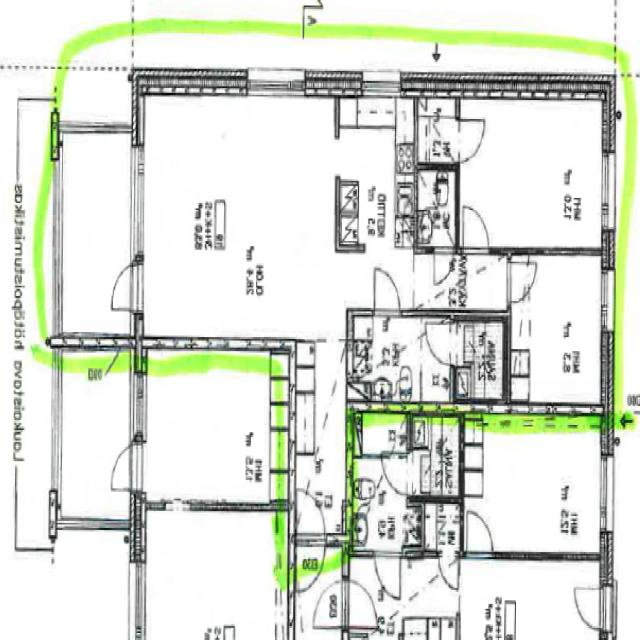door: (104, 265, 145, 310), (297, 488, 325, 546), (297, 534, 325, 591), (464, 204, 489, 256), (424, 323, 454, 364), (375, 269, 400, 317), (456, 120, 485, 160), (507, 262, 536, 302), (435, 247, 453, 285)
